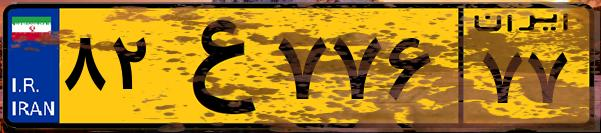2: (110, 28, 158, 98)
6: (385, 28, 445, 110)
7: (270, 28, 330, 110), (330, 28, 385, 110), (475, 38, 525, 113), (525, 38, 570, 115)
8: (57, 26, 110, 100)
ع: (158, 12, 270, 120)
